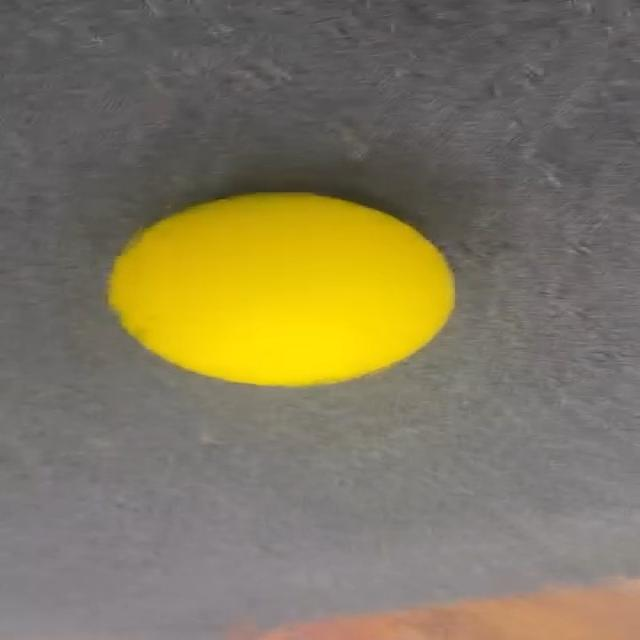Fuels: (110, 193, 453, 385)
